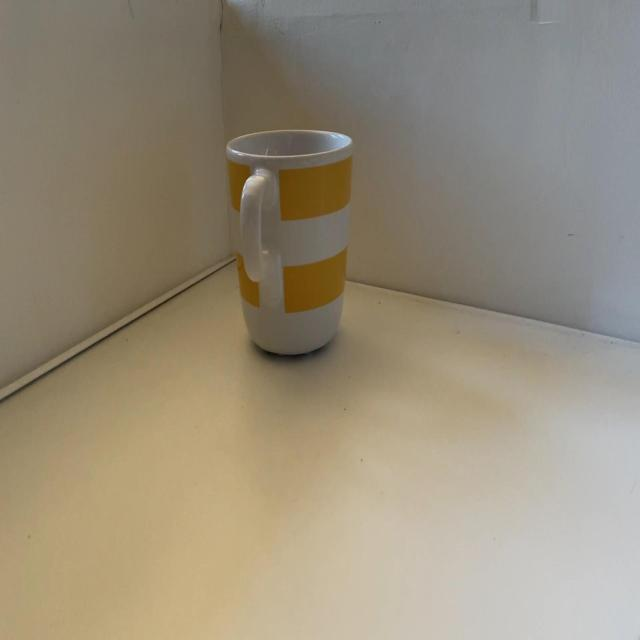cup: (234, 132, 356, 362)
